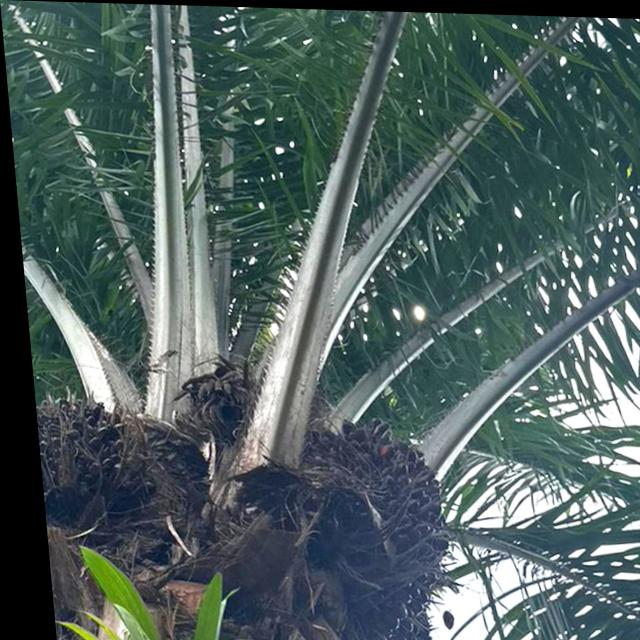ripe: (259, 397, 471, 640), (26, 371, 159, 526)
